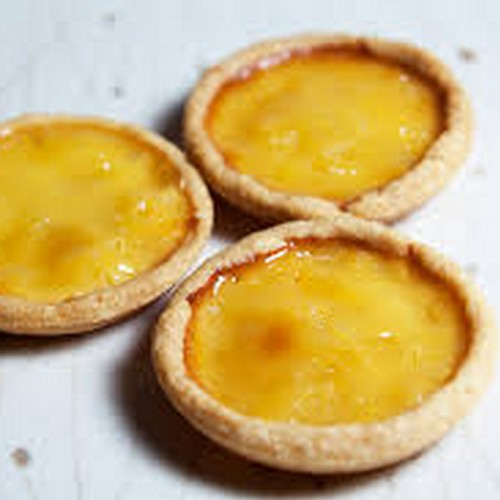pie susu: (157, 221, 491, 484), (186, 27, 453, 217), (4, 110, 207, 348)
